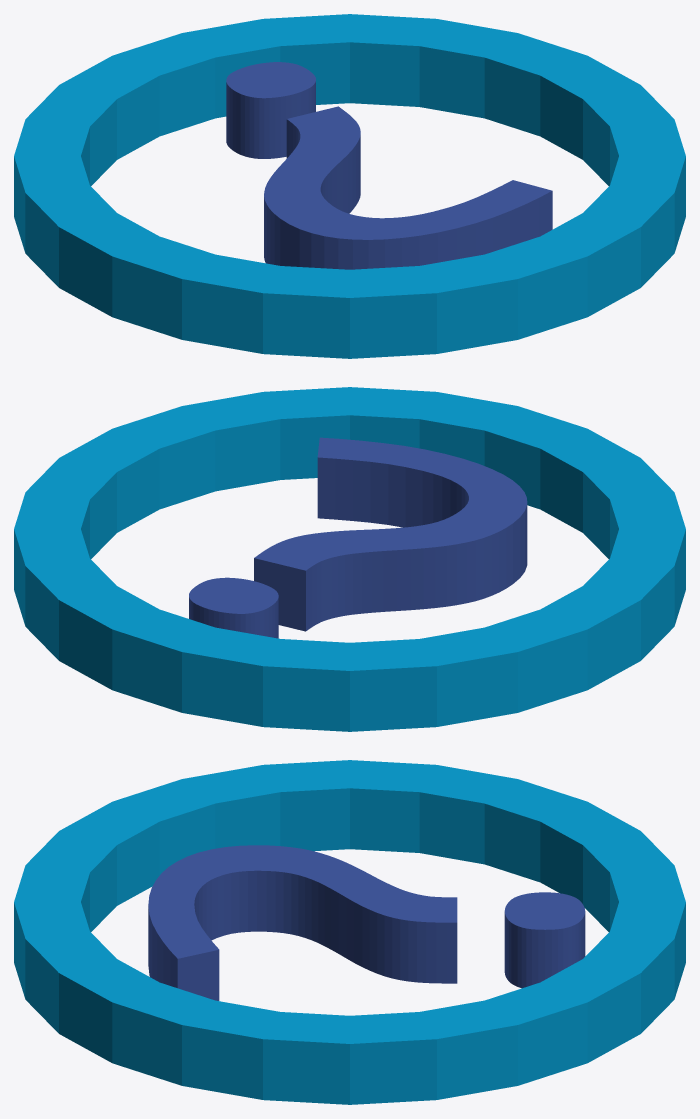
The model's file is tinker.obj.
The picture shows the model from 3 angles, top to bottom: view 1: azimuth 30°, elevation 25°; view 2: azimuth 150°, elevation 25°; view 3: azimuth 270°, elevation 25°; orthographic projection.
Parts seen in each view (by area): view 1: group_0_40919, group_0_3888547; view 2: group_0_40919, group_0_3888547; view 3: group_0_40919, group_0_3888547.
Boxes of the visible parts, box(x1,y1,x2,y2) form: group_0_40919: box(14, 14, 685, 358); group_0_3888547: box(226, 62, 552, 269); group_0_40919: box(14, 387, 685, 731); group_0_3888547: box(189, 437, 527, 638); group_0_40919: box(14, 760, 685, 1104); group_0_3888547: box(148, 845, 585, 1000).
Bounding box in the file's own units: 20 × 2 × 20.
